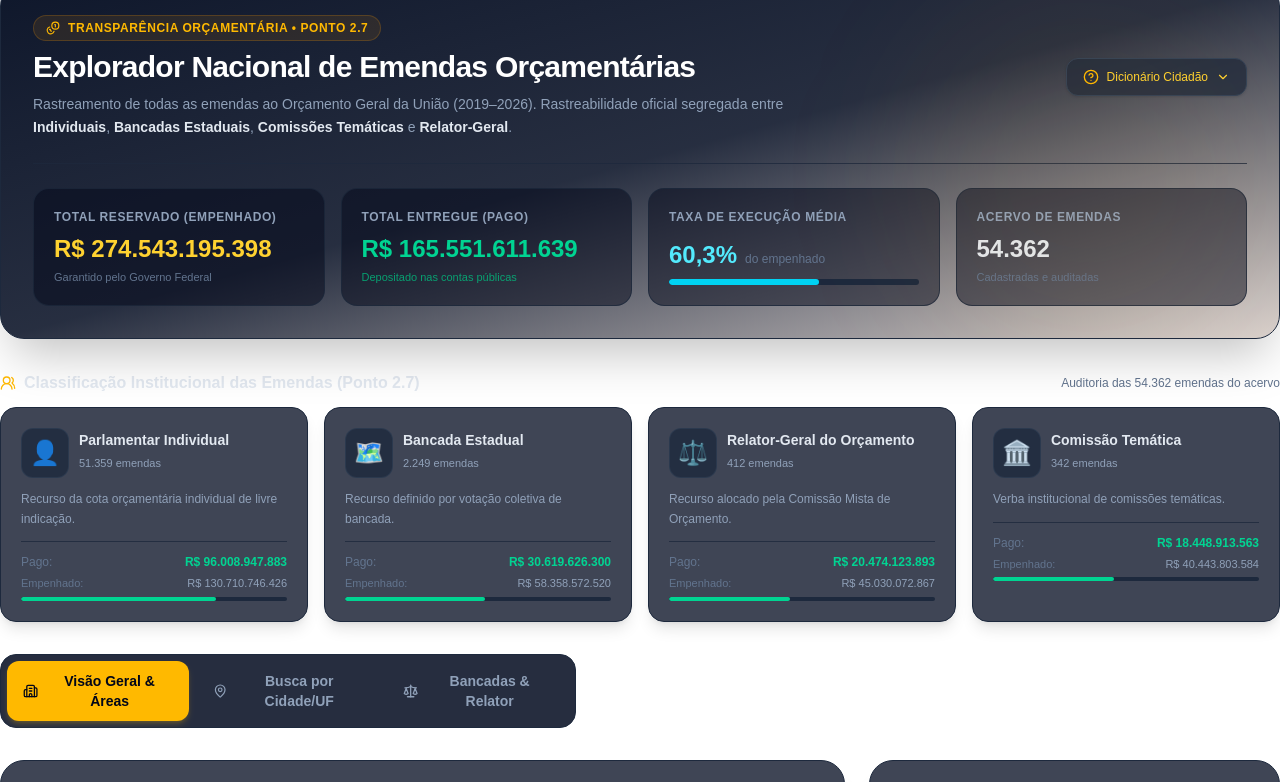
Test: EmendasExplorerPanel › permite navegar para a aba de autores institucionais e exibe dados do Relator-Geral
This screenshot has width=1280, height=782.
Expected: the heading "Explorador Nacional de Emendas Orçamentárias" is shown, [33,49,801,85]
Click the button "Bancadas & Relator" at (478, 691), box [387,661,569,721]
(page scrolled)
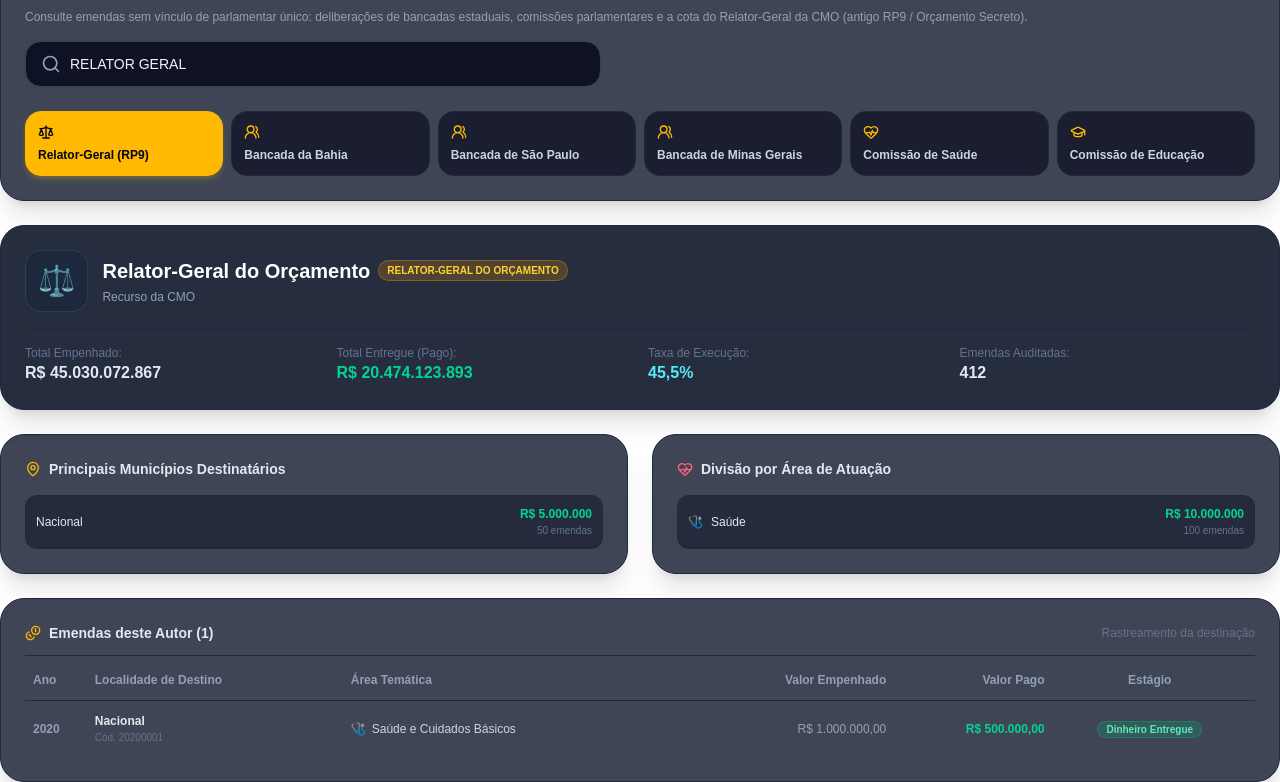
Result: the text "Recurso da CMO" is shown at [102,290,195,304]
Result: the text "Emendas deste Autor (1)" is shown at [49,623,213,643]
